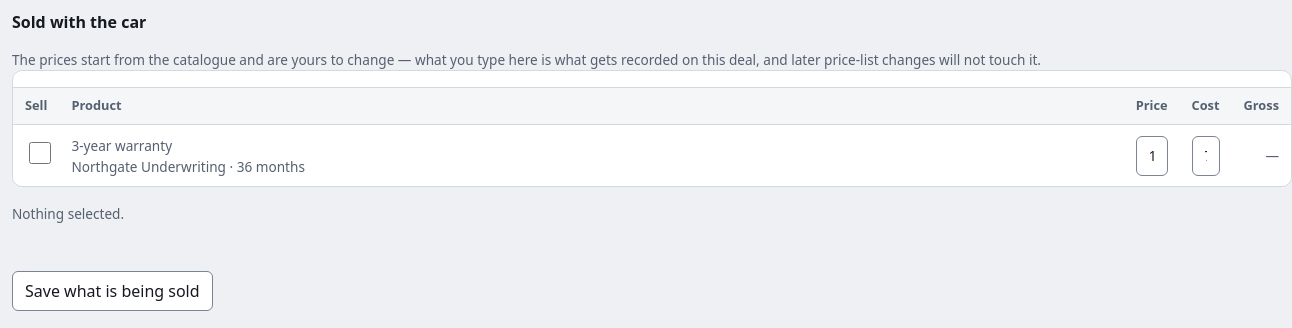
Scenario: the finance menu › shows the gross as the price is changed
This screenshot has width=1292, height=328.
Click the checkbox named "Sell 3-year warranty" at (40, 153), box x1=29 y1=133 x2=51 y2=173
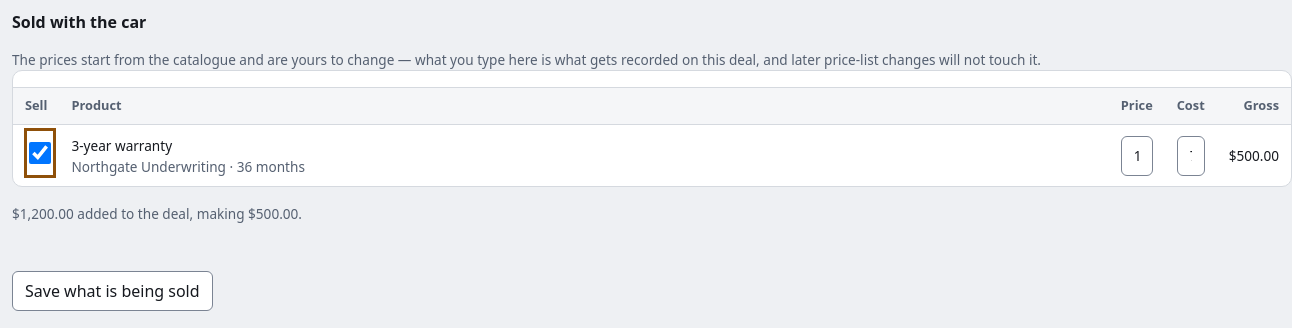
Expected: the text "$1,200.00 added to the deal, making $500.00." is shown, x1=12 y1=204 x2=302 y2=223
Clear the field named "Price for 3-year warranty" at (1137, 156), box x1=1121 y1=136 x2=1153 y2=176
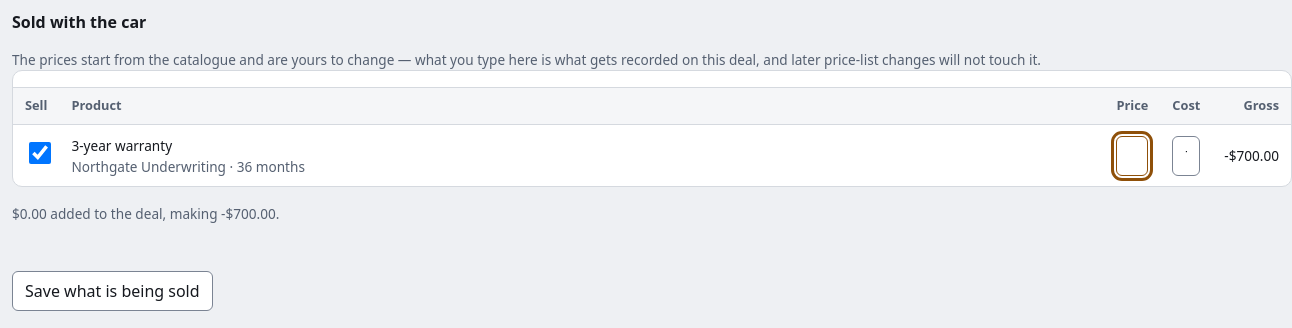
Type "900" into the field named "Price for 3-year warranty" at (1132, 156), box x1=1116 y1=136 x2=1148 y2=176
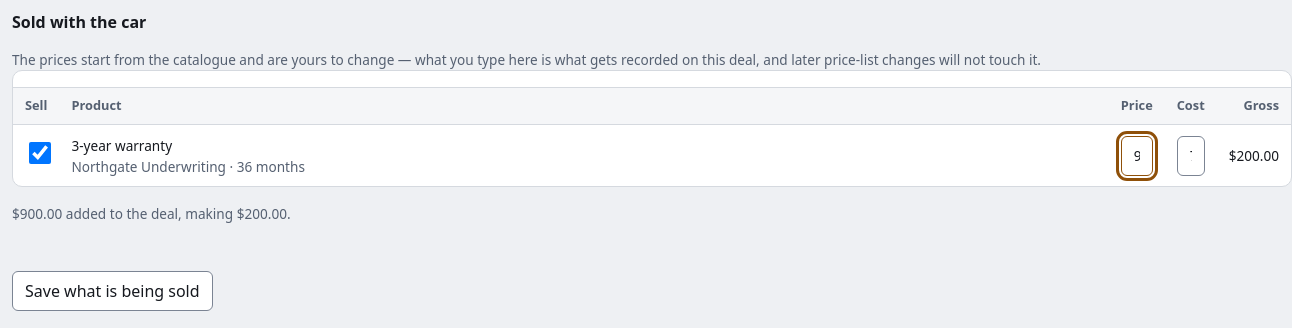
Expected: the text "$900.00 added to the deal, making $200.00." is shown, x1=12 y1=204 x2=291 y2=223
